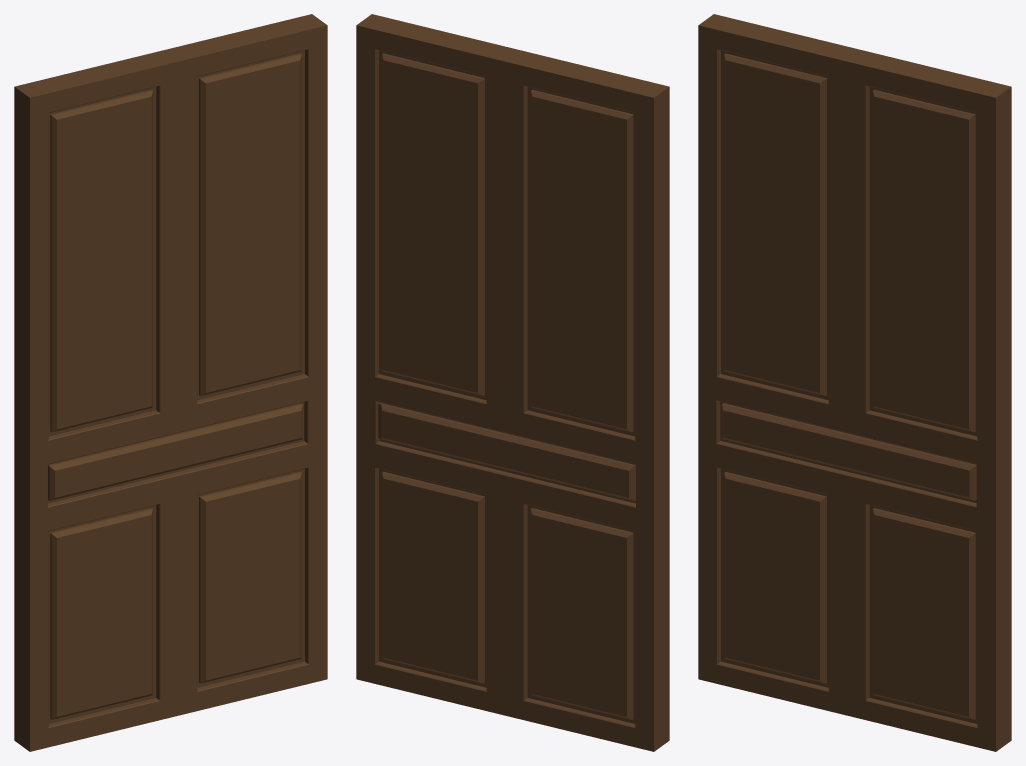
Rendered from Door_1.fbx.
3 renders of one model, left to right at view 1: azimuth 30°, elevation 25°; view 2: azimuth 150°, elevation 25°; view 3: azimuth 330°, elevation 25°, orthographic.
Parts seen in each view (by area): view 1: MainDoor.008; view 2: MainDoor.008; view 3: MainDoor.008.
Boxes of the visible parts, <box> form: MainDoor.008: <box>14,14,327,751</box>; MainDoor.008: <box>356,14,669,751</box>; MainDoor.008: <box>698,14,1011,751</box>.
Bounding box in the file's own units: 100 × 210 × 9.21.
